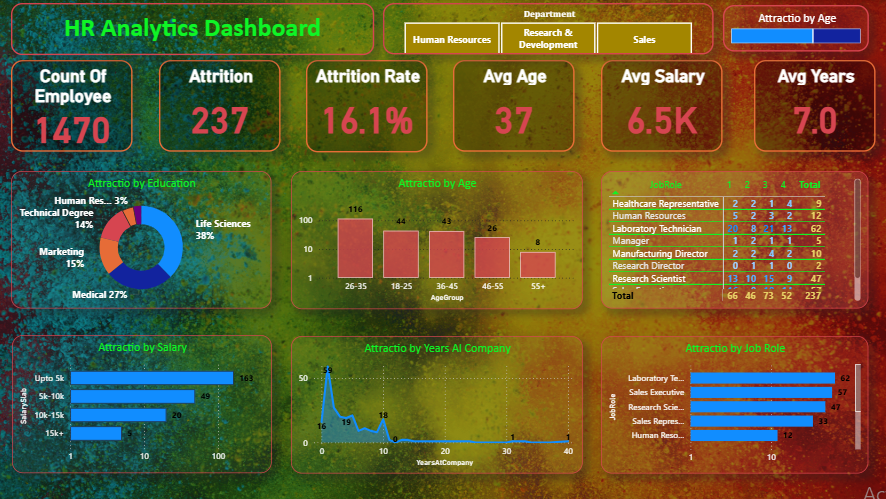

What the dashboard file says about the page in this screenshot:
{"tool":"powerbi","page":{"name":"Page 2","canvas":[1280,720],"ordinal":1},"visuals":[{"type":"card","title":"Count Of Employee","fields":{"Values":["CountNonNull(HR_Analytics.EmpID)"]},"box":[18.3,86.7,175,131.7],"z":0},{"type":"card","title":"Attrition","fields":{"Values":["Sum(HR_Analytics.AttractionCount)"]},"box":[231.7,86.7,175,131.7],"z":1000},{"type":"card","title":"Attrition Rate","fields":{"Values":["HR_Analytics.AttritionRate"]},"box":[443.8,86.2,175,132.5],"z":2000},{"type":"card","title":"Avg Age","fields":{"Values":["Avg(HR_Analytics.Age)"]},"box":[655,86.7,175,131.7],"z":3000},{"type":"card","title":"Avg Salary","fields":{"Values":["Avg(HR_Analytics.MonthlyIncome)"]},"box":[868.3,86.7,175,131.7],"z":4000},{"type":"card","title":"Avg Years","fields":{"Values":["Avg(HR_Analytics.YearsAtCompany)"]},"box":[1088.3,86.7,175,131.7],"z":5000},{"type":"slicer","title":"Department","fields":{"Values":["HR_Analytics.Department"]},"box":[554.3,4.3,475.7,74.3],"z":6000},{"type":"treemap","title":" Attractio by Age","fields":{"Group":["HR_Analytics.Gender"],"Values":["Sum(HR_Analytics.AttractionCount)"]},"box":[1044.3,7.1,210,67.1],"z":7000},{"type":"donutChart","title":" Attractio by Education","fields":{"Y":["Sum(HR_Analytics.AttractionCount)"],"Category":["HR_Analytics.EducationField"]},"box":[18.3,246.7,375,198.3],"z":8000},{"type":"columnChart","title":" Attractio by Age","fields":{"Y":["Sum(HR_Analytics.AttractionCount)"],"Category":["HR_Analytics.AgeGroup"]},"box":[421.2,246.2,420,198.8],"z":9000},{"type":"pivotTable","fields":{"Rows":["HR_Analytics.JobRole"],"Columns":["HR_Analytics.JobSatisfaction"],"Values":["Sum(HR_Analytics.AttractionCount)"]},"box":[868.3,246.7,385,198.3],"z":10000},{"type":"barChart","title":" Attractio by Salary","fields":{"Category":["HR_Analytics.SalarySlab"],"Y":["Sum(HR_Analytics.AttractionCount)"]},"box":[20,482.9,374.3,198.6],"z":11000},{"type":"areaChart","title":" Attractio by Years AI Company","fields":{"Category":["HR_Analytics.YearsAtCompany"],"Y":["Sum(HR_Analytics.AttractionCount)"]},"box":[421.7,483.3,420,198.3],"z":12000},{"type":"barChart","title":" Attractio by Job Role","fields":{"Y":["Sum(HR_Analytics.AttractionCount)"],"Category":["HR_Analytics.JobRole"]},"box":[868.3,483.3,385,198.3],"z":13000},{"type":"textbox","box":[18.3,4.2,522.5,75],"z":14000}]}

Visuals, with their boxes in screenshot pixels (x1, y1, x2, y2), scaled from the page's 1280x720 canvas onto the 886x499 screenshot:
"Count Of Employee" card: [13,60,134,151]
"Attrition" card: [160,60,282,151]
"Attrition Rate" card: [307,60,428,152]
"Avg Age" card: [453,60,575,151]
"Avg Salary" card: [601,60,722,151]
"Avg Years" card: [753,60,874,151]
"Department" slicer: [384,3,713,54]
" Attractio by Age" treemap: [723,5,868,51]
" Attractio by Education" donutChart: [13,171,272,308]
" Attractio by Age" columnChart: [292,171,582,308]
pivotTable - HR_Analytics.JobRole x HR_Analytics.JobSatisfaction: [601,171,868,308]
" Attractio by Salary" barChart: [14,335,273,472]
" Attractio by Years AI Company" areaChart: [292,335,583,472]
" Attractio by Job Role" barChart: [601,335,868,472]
textbox: [13,3,374,55]
